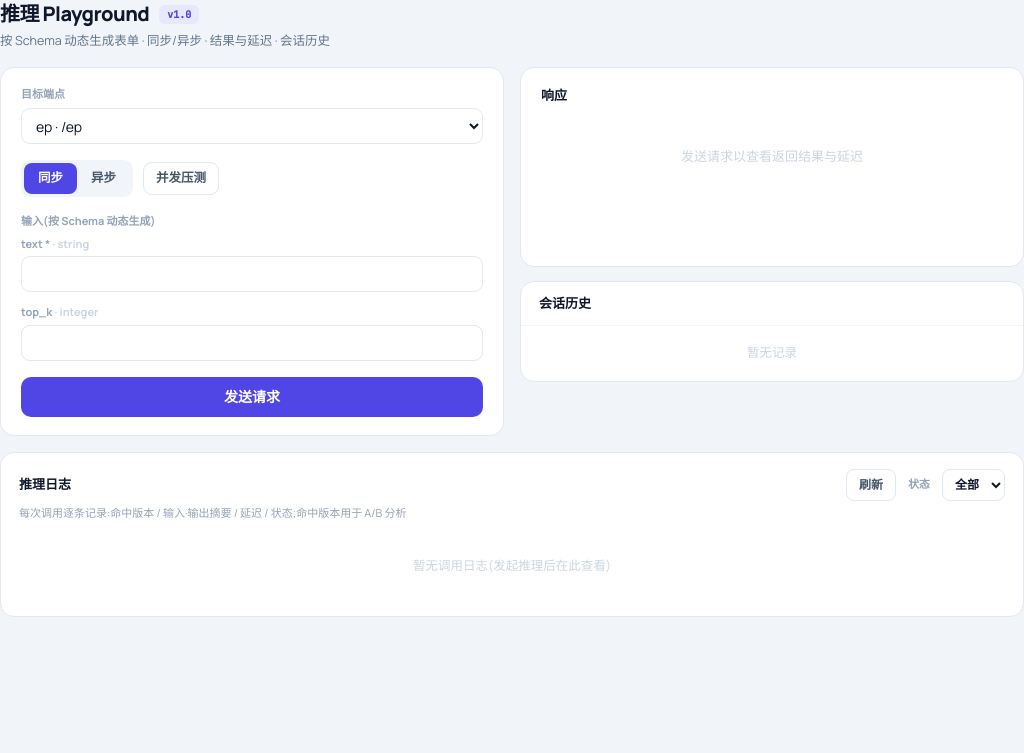
Test case: PlaygroundPage 接通推理 API › 客户端凭任务 ID 查询结果:手动输入 ID → 调 getInferenceTask 并展示状态/结果
The width and height of the screenshot is (1024, 753).
expect the field with test id "pg-field-text" is shown: met, box [21,256,483,292]
Click the button "异步" at (104, 179), box [77,163,130,194]
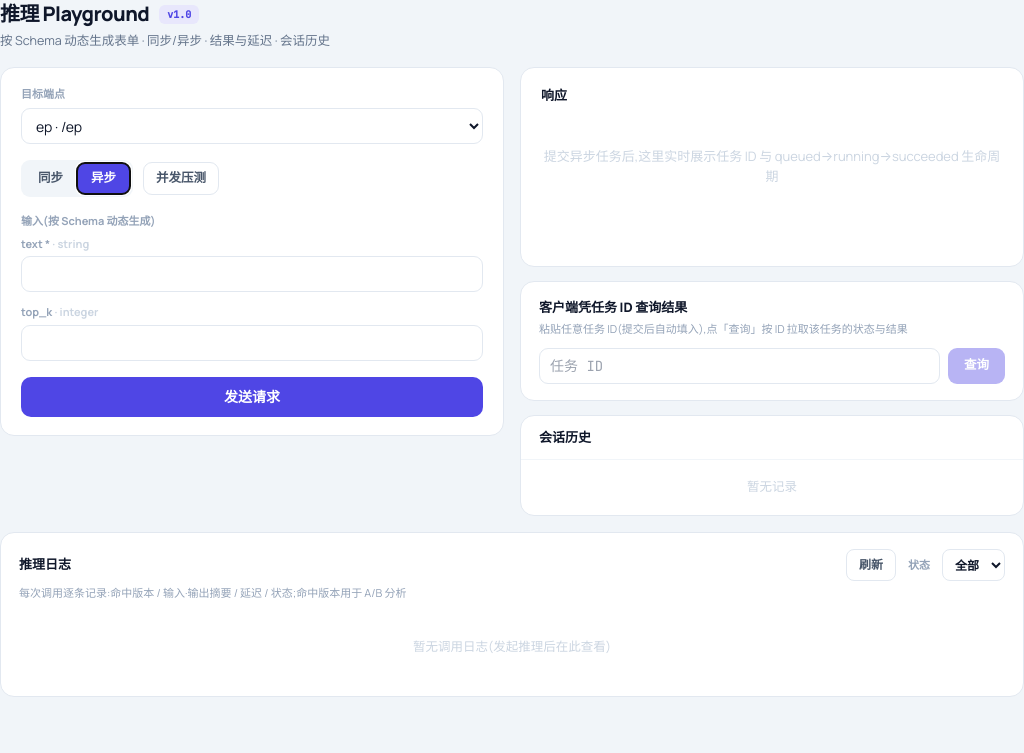
Type "manual-task-9" into the field with test id "pg-task-query-id" at (740, 366), box [539,348,940,384]
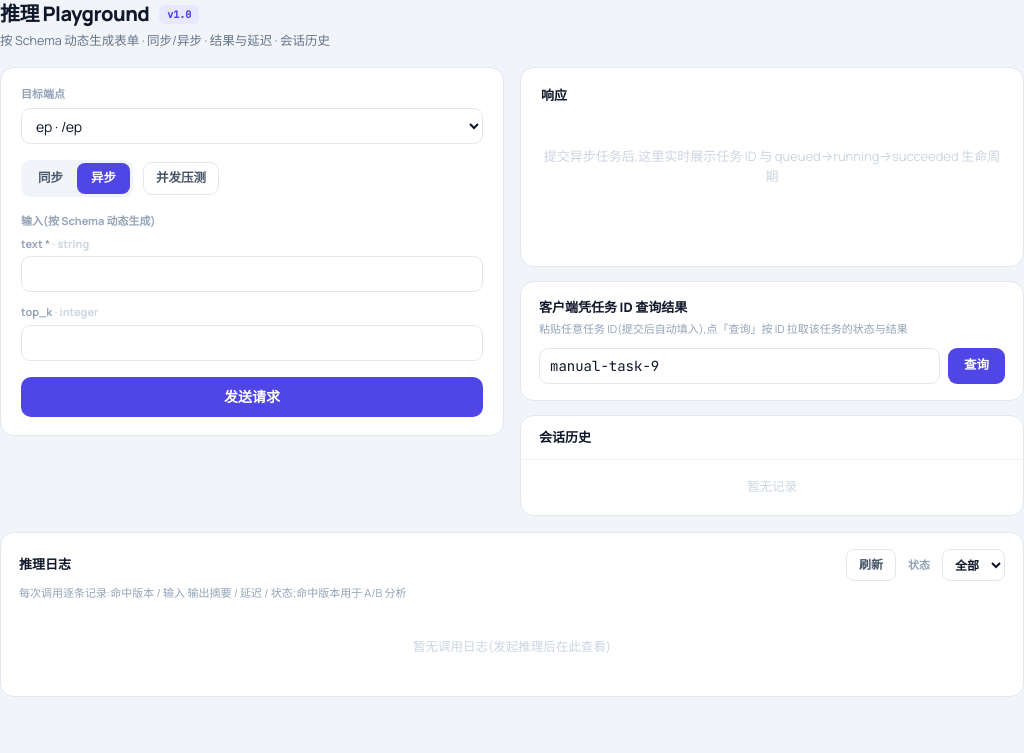
Click the button with test id "pg-task-query-btn" at (976, 366), box [948,348,1005,384]
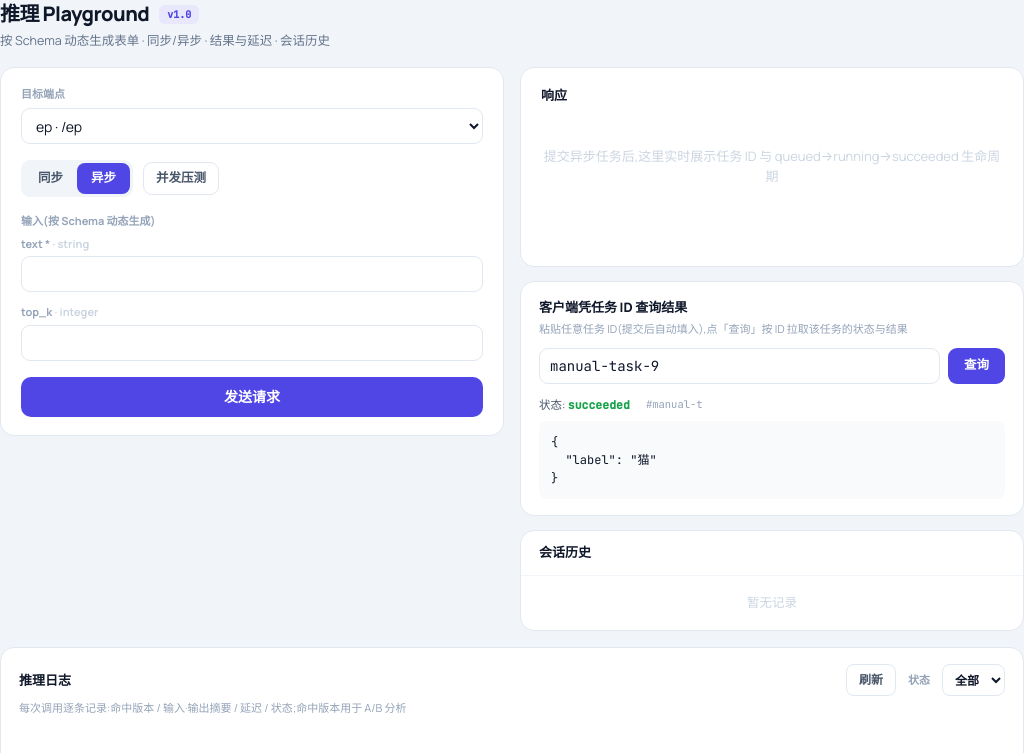
expect the element with test id "pg-task-query-result" shows "猫": met, box [551,434,657,486]
expect the element with test id "pg-task-query-result" shows "succeeded": met, box [568,397,630,412]
